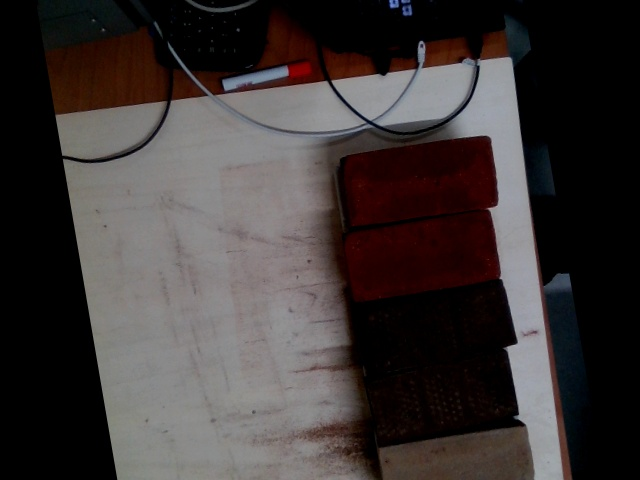brick: (358, 281, 516, 375), (342, 212, 500, 303), (369, 353, 519, 445), (342, 138, 499, 224), (378, 428, 536, 479)
